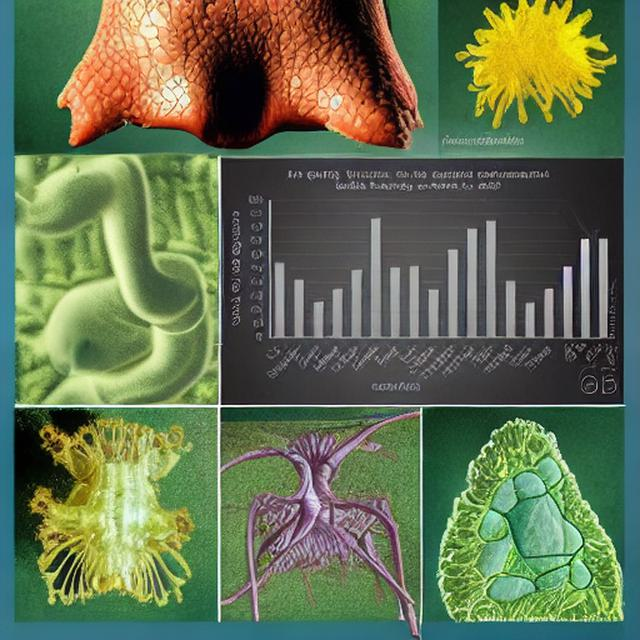Graph: (228, 161, 563, 405)
